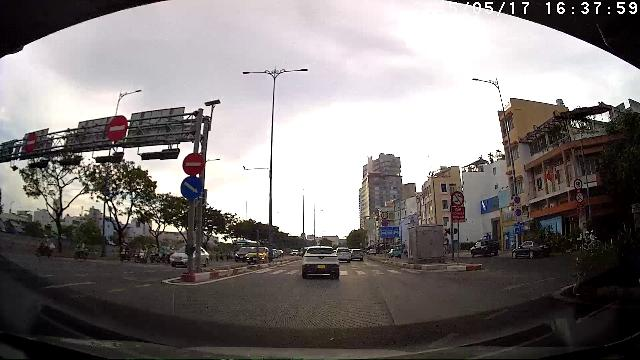102-cam-di-nguoc-chieu: (106, 115, 128, 141), (183, 153, 205, 175), (26, 132, 36, 152)
127-toc-do-toi-da-50: (574, 178, 582, 190)
302a-huong-phai-di-vong-chuong-ngai-vat-1: (181, 176, 203, 200)
